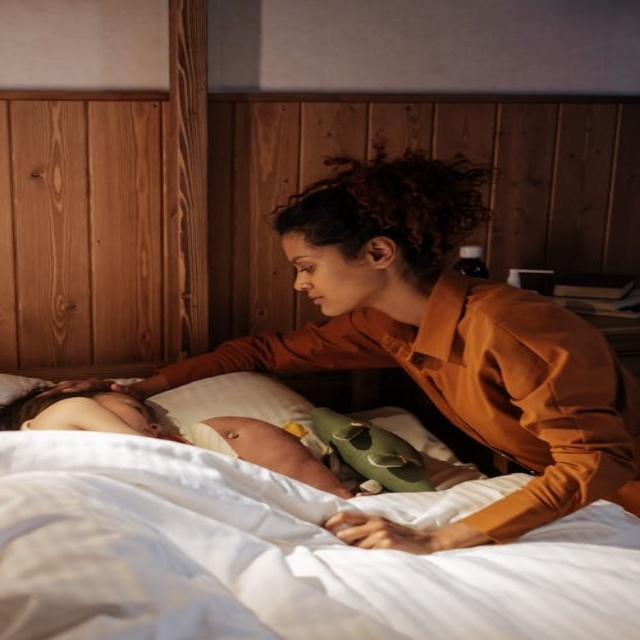Sin_gafas: (287, 249, 340, 276)
Sin_guantes: (322, 510, 434, 555), (39, 378, 138, 402)
Sin_mascara: (302, 288, 348, 315)
